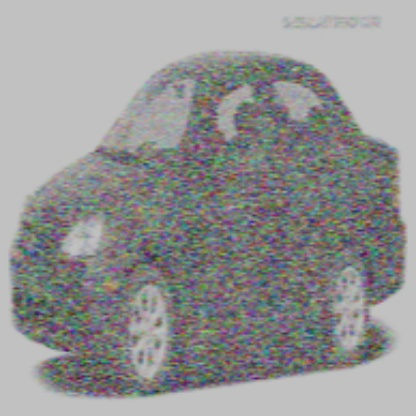Vehicle: (10, 54, 408, 395)
